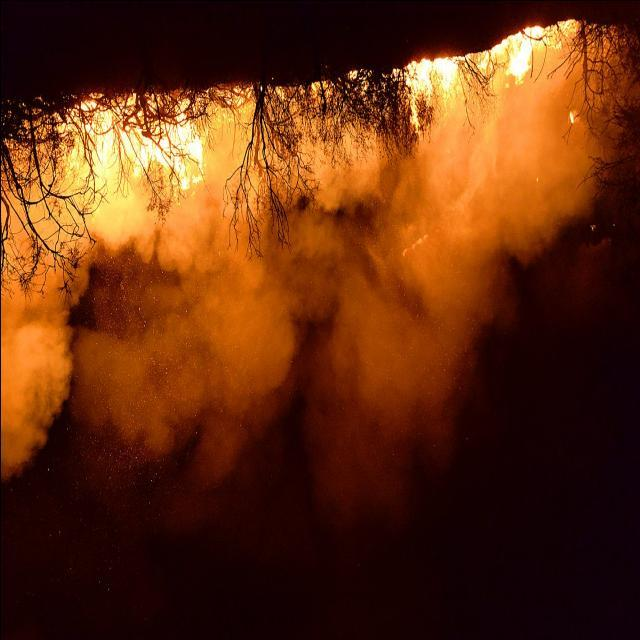Fire: (40, 82, 214, 206), (388, 19, 578, 131)
